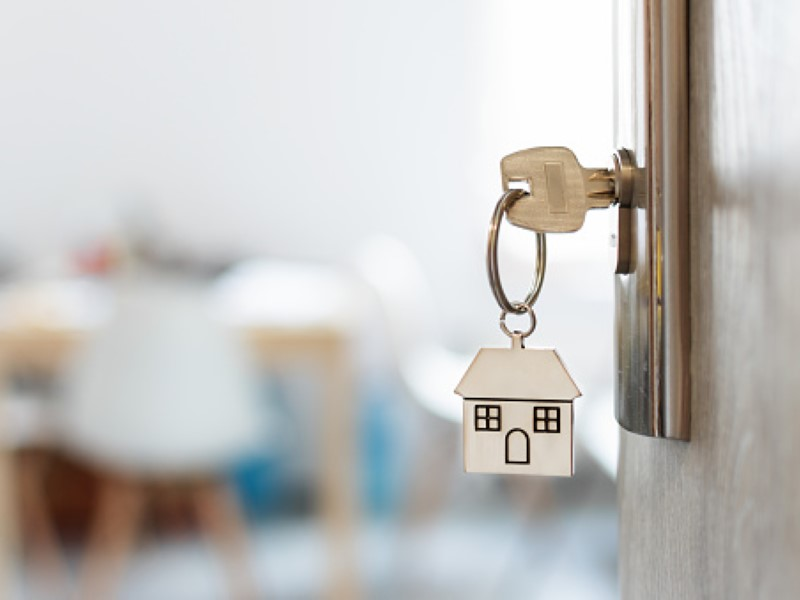key: (488, 142, 617, 241)
